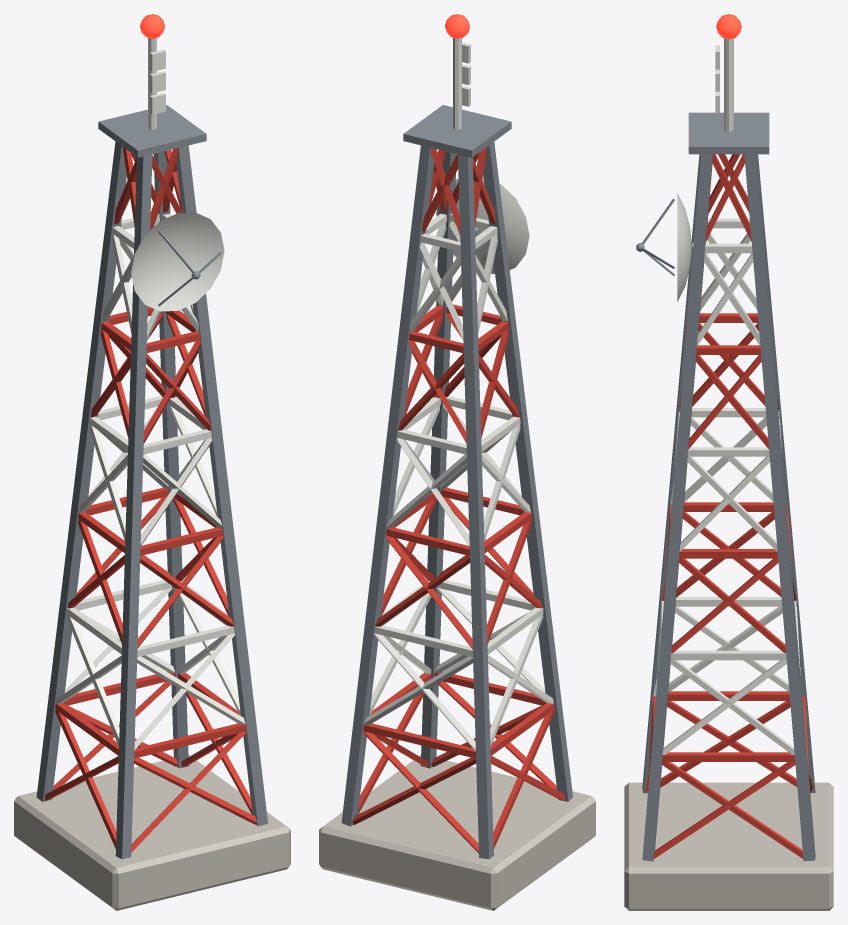
The model's file is telegram_tower.glb.
3 views of the same model, side by side, from view 1: azimuth 30°, elevation 25°; view 2: azimuth 150°, elevation 25°; view 3: azimuth 270°, elevation 25° (orthographic).
Visible parts, largest first — view 1: tower; view 2: tower; view 3: tower, beacon.
Part boxes in pixels (x1=…): tower: x1=14, y1=38, x2=290, y2=910; tower: x1=319, y1=38, x2=595, y2=910; tower: x1=624, y1=38, x2=833, y2=910; beacon: x1=716, y1=14, x2=741, y2=39.
Bounding box in the file's own units: 1.3 × 5.84 × 1.3.
